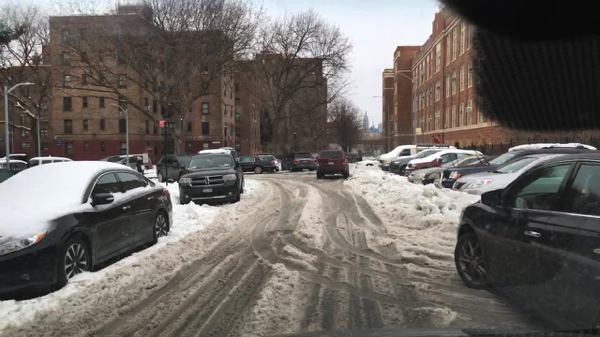car: (453, 153, 598, 336), (0, 160, 173, 301), (433, 145, 596, 190), (453, 155, 579, 197), (177, 150, 244, 204), (407, 157, 488, 185), (405, 150, 482, 176), (378, 145, 450, 169), (389, 148, 440, 175), (155, 153, 195, 181), (315, 148, 348, 178), (105, 155, 152, 172), (235, 155, 277, 174), (506, 142, 596, 150), (280, 152, 314, 173), (27, 155, 72, 167), (259, 155, 278, 173), (0, 160, 27, 171), (357, 157, 378, 169), (0, 154, 27, 160)
person: (133, 156, 146, 174)
traffic sign: (415, 129, 421, 135), (56, 141, 62, 146)
